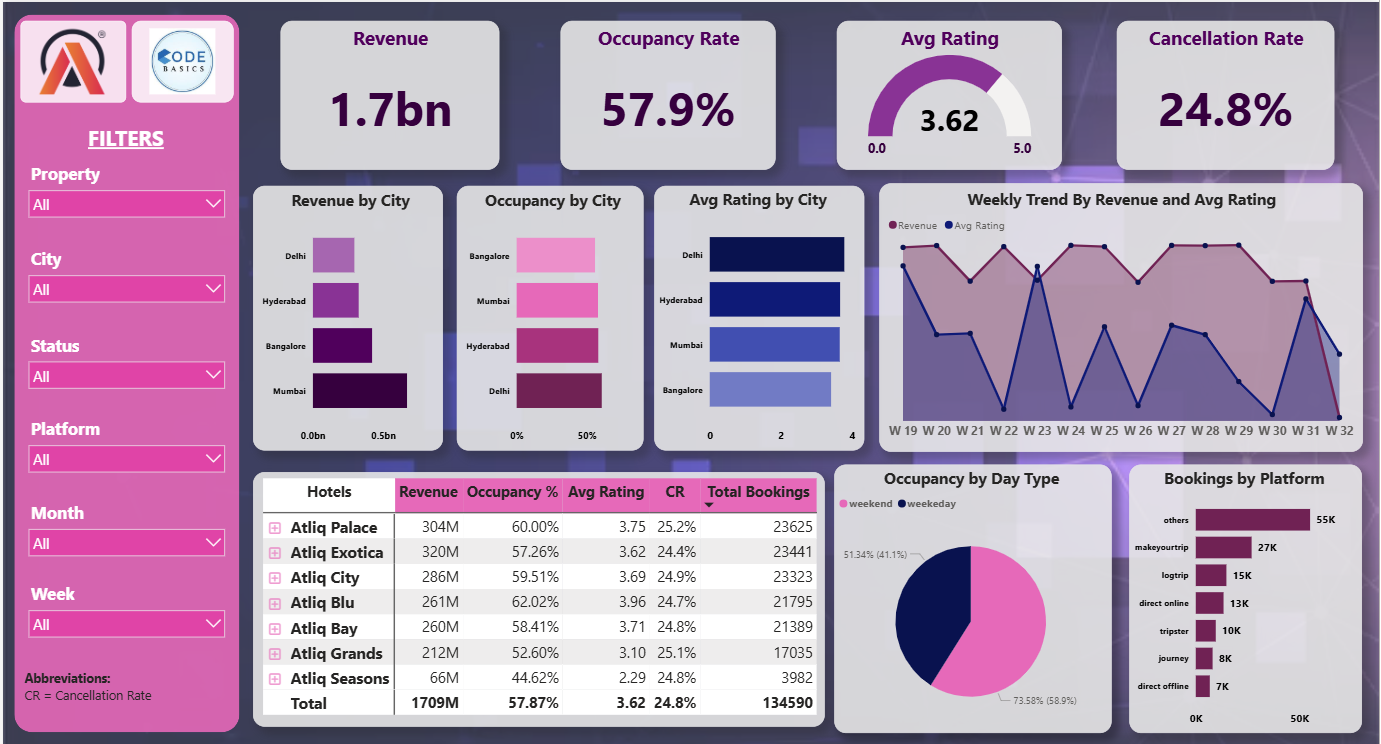

Layout of this report page (visuals, bound fields, positions):
{"tool":"powerbi","page":{"name":"Page 1","canvas":[1750,950],"ordinal":0},"visuals":[{"type":"shape","box":[14.6,16.2,286.6,913.1],"z":0},{"type":"slicer","fields":{"Values":["dim_hotels.property_name"]},"box":[22.7,199.1,270.4,93.9],"z":1000},{"type":"slicer","fields":{"Values":["dim_hotels.city"]},"box":[22.7,307.6,270.4,98.8],"z":2000},{"type":"slicer","fields":{"Values":["fact_bookings.booking_status"]},"box":[22.7,416.1,270.4,95.5],"z":3000},{"type":"slicer","fields":{"Values":["fact_bookings.booking_platform"]},"box":[22.7,522.9,270.4,93.9],"z":4000},{"type":"slicer","fields":{"Values":["dim_date.mmm yy"]},"box":[22.7,629.8,270.4,92.3],"z":5000},{"type":"slicer","fields":{"Values":["dim_date.week no"]},"box":[22.7,733.4,270.4,93.9],"z":6000},{"type":"textbox","box":[40.5,148.9,233.1,46.9],"z":7000},{"type":"card","title":"Revenue","fields":{"Values":["Key Measures.Total Revenue"]},"box":[352.9,24.3,278.5,189.4],"z":8000},{"type":"card","title":"Occupancy Rate","fields":{"Values":["Key Measures.Occupancy %"]},"box":[709.1,24.3,273.6,189.4],"z":9000},{"type":"gauge","fields":{"Y":["Key Measures.Avg rating"]},"box":[1060.4,24.3,286.6,189.4],"z":10000},{"type":"clusteredBarChart","title":"Revenue by City","fields":{"Category":["dim_hotels.city"],"Y":["Key Measures.Total Revenue"]},"box":[317.3,233.1,241.2,336.7],"z":11000},{"type":"clusteredBarChart","title":"Occupancy by City","fields":{"Category":["dim_hotels.city"],"Y":["Key Measures.Occupancy %"]},"box":[576.3,233.1,238,336.7],"z":12000},{"type":"areaChart","title":"Weekly Trend By Revenue and Avg Rating","fields":{"Category":["dim_date.week no"],"Y2":["Key Measures.Rating per week"],"Y":["Key Measures.Revenue per week"]},"box":[1113.8,229.9,615.2,341.6],"z":13000},{"type":"pivotTable","fields":{"Rows":["dim_hotels.property_name","dim_hotels.city"],"Values":["Key Measures.Total Revenue","Key Measures.Occupancy %","Key Measures.Avg Rating","Key Measures.Cancellation Rate","Sum(fact_aggregated_bookings.successful_bookings)"]},"box":[317.3,597.4,726.9,323.8],"z":14000},{"type":"clusteredBarChart","title":"Avg Rating by City","fields":{"Category":["dim_hotels.city"],"Y":["Key Measures.Avg rating"]},"box":[828.9,233.1,267.1,336.7],"z":15000},{"type":"textbox","box":[22.7,843.5,233.1,80.9],"z":16000},{"type":"pieChart","title":"Occupancy by Day Type","fields":{"Category":["dim_date.day_type"],"Y":["Key Measures.Occupancy %"]},"box":[1057.2,587.7,352.9,341.6],"z":17000},{"type":"barChart","title":"Bookings by Platform","fields":{"Category":["fact_bookings.booking_platform"],"Y":["CountNonNull(fact_bookings.booking_status)"]},"box":[1432.8,587.7,296.3,341.6],"z":18000},{"type":"image","box":[22.7,24.3,134.4,103.6],"z":19000},{"type":"card","title":"Cancellation Rate","fields":{"Values":["Key Measures.Cancellation Rate"]},"box":[1416.6,24.3,276.8,189.4],"z":20000},{"type":"image","box":[163.5,24.3,129.5,103.6],"z":20001}]}

Visuals, with their boxes in screenshot pixels (x1, y1, x2, y2), scaled from the page's 1750x950 canvas onto the 1381x744 screenshot:
shape: rect(12, 13, 238, 728)
slicer - dim_hotels.property_name: rect(18, 156, 231, 229)
slicer - dim_hotels.city: rect(18, 241, 231, 318)
slicer - fact_bookings.booking_status: rect(18, 326, 231, 401)
slicer - fact_bookings.booking_platform: rect(18, 410, 231, 483)
slicer - dim_date.mmm yy: rect(18, 493, 231, 566)
slicer - dim_date.week no: rect(18, 574, 231, 648)
textbox: rect(32, 117, 216, 153)
"Revenue" card: rect(278, 19, 498, 167)
"Occupancy Rate" card: rect(560, 19, 775, 167)
gauge - Key Measures.Avg rating: rect(837, 19, 1063, 167)
"Revenue by City" clusteredBarChart: rect(250, 183, 441, 446)
"Occupancy by City" clusteredBarChart: rect(455, 183, 643, 446)
"Weekly Trend By Revenue and Avg Rating" areaChart: rect(879, 180, 1364, 448)
pivotTable - dim_hotels.property_name x dim_hotels.city: rect(250, 468, 824, 721)
"Avg Rating by City" clusteredBarChart: rect(654, 183, 865, 446)
textbox: rect(18, 661, 202, 724)
"Occupancy by Day Type" pieChart: rect(834, 460, 1113, 728)
"Bookings by Platform" barChart: rect(1131, 460, 1365, 728)
image: rect(18, 19, 124, 100)
"Cancellation Rate" card: rect(1118, 19, 1336, 167)
image: rect(129, 19, 231, 100)
